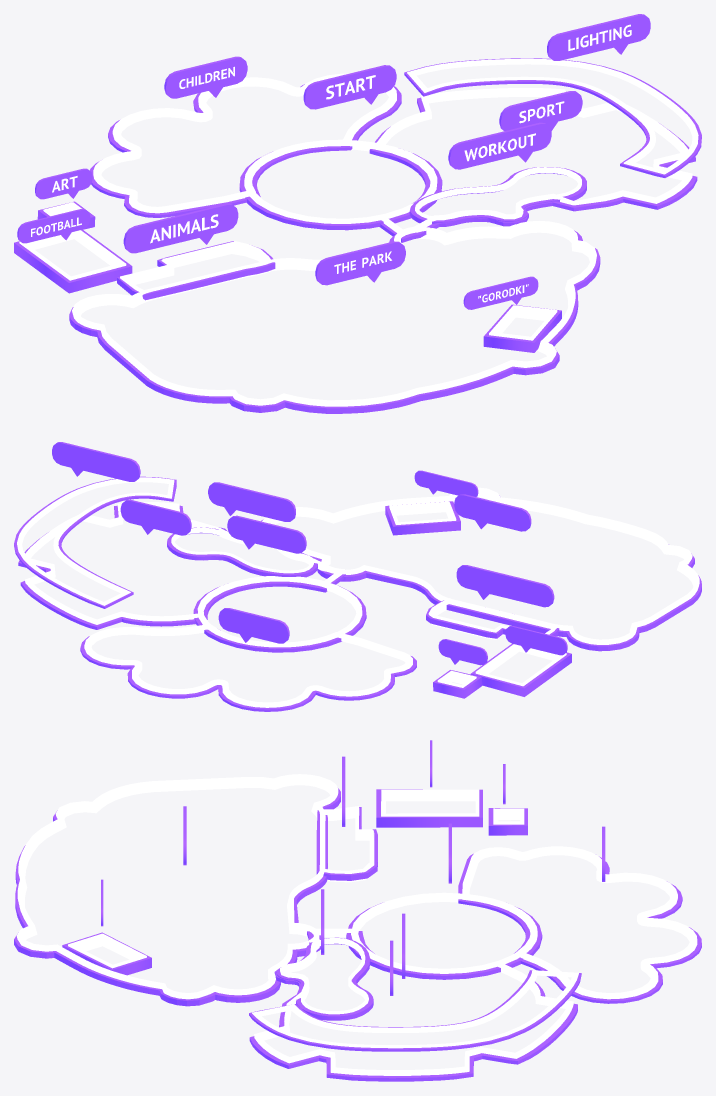
The model's file is en_callouts.glb.
3 views of the same model, one above another, from view 1: azimuth 30°, elevation 25°; view 2: azimuth 150°, elevation 25°; view 3: azimuth 270°, elevation 25° (orthographic). The views are drawn at different scales.
Parts seen in each view (by area): view 1: ML_1_1, ML_6_1, ML_3_1, ML_1_2, ML_5_1, ML_4, ML_5, ML_10, ML_3_2, ML_2, ML_1, ML_4_1 (+16 smaller); view 2: ML_1_1, ML_6_1, ML_3_1, ML_5_1, ML_1_2, ML_4, ML_3_2, ML_5, ML_10, ML_6_2, ML_2, ML_1 (+17 smaller); view 3: ML_1_1, ML_6_1, ML_3_1, ML_5_1, ML_1_2, ML_3_2, ML_6_2, ML_5_2, ML_2_1, ML_7_1, ML_7_2, ML_2_2 (+8 smaller).
Boxes of the visible parts, <box> form: ML_1_1: <box>72,221,596,406</box>; ML_6_1: <box>93,73,396,213</box>; ML_3_1: <box>375,88,692,233</box>; ML_1_2: <box>69,230,600,413</box>; ML_5_1: <box>407,58,698,174</box>; ML_4: <box>123,203,238,253</box>; ML_5: <box>547,14,650,60</box>; ML_10: <box>448,122,551,169</box>; ML_3_2: <box>369,91,697,242</box>; ML_2: <box>303,65,396,109</box>; ML_1: <box>315,241,405,285</box>; ML_4_1: <box>120,241,271,292</box>; ML_1_1: <box>262,487,699,644</box>; ML_6_1: <box>84,624,412,707</box>; ML_3_1: <box>25,502,344,624</box>; ML_5_1: <box>17,477,174,605</box>; ML_1_2: <box>261,495,701,651</box>; ML_4: <box>456,565,554,607</box>; ML_3_2: <box>18,505,345,629</box>; ML_5: <box>52,442,140,481</box>; ML_10: <box>208,482,295,521</box>; ML_6_2: <box>80,630,416,711</box>; ML_2: <box>227,515,306,553</box>; ML_1: <box>454,494,531,531</box>; ML_1_1: <box>16,774,338,999</box>; ML_6_1: <box>462,846,697,999</box>; ML_3_1: <box>254,928,573,1075</box>; ML_5_1: <box>252,970,578,1048</box>; ML_1_2: <box>14,788,340,1006</box>; ML_3_2: <box>249,931,577,1081</box>; ML_6_2: <box>458,853,701,1003</box>; ML_5_2: <box>249,970,581,1051</box>; ML_2_1: <box>351,892,535,973</box>; ML_7_1: <box>381,789,479,816</box>; ML_7_2: <box>376,789,482,827</box>; ML_2_2: <box>346,902,542,979</box>.
Size of the model in its own units: 297 by 62.25 by 284.
